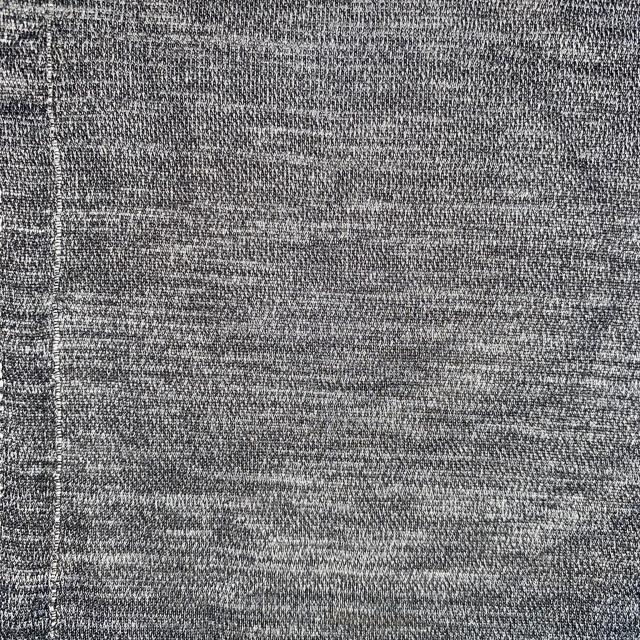Line: (45, 0, 64, 640)
